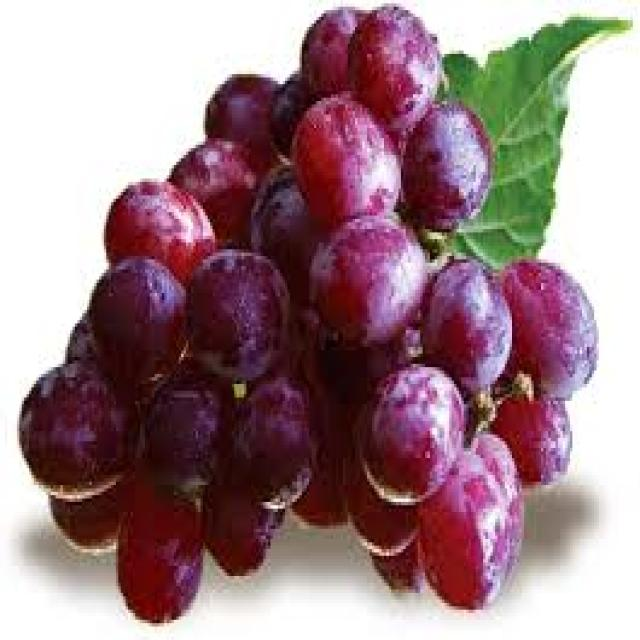Grapes: (317, 223, 411, 376), (428, 459, 512, 612), (190, 249, 284, 382), (425, 262, 513, 403), (298, 115, 384, 251), (26, 379, 124, 498), (147, 379, 240, 504), (91, 259, 182, 385), (499, 266, 589, 390), (376, 382, 468, 503), (110, 180, 206, 288), (360, 6, 434, 134), (415, 115, 493, 236), (126, 502, 203, 624), (181, 145, 259, 263), (236, 395, 314, 511), (210, 85, 299, 170), (503, 386, 570, 487), (297, 31, 357, 100)
